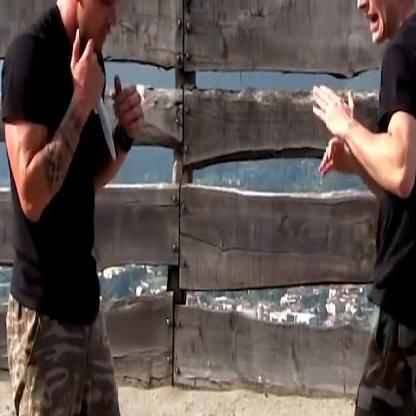knife: (72, 50, 118, 173)
